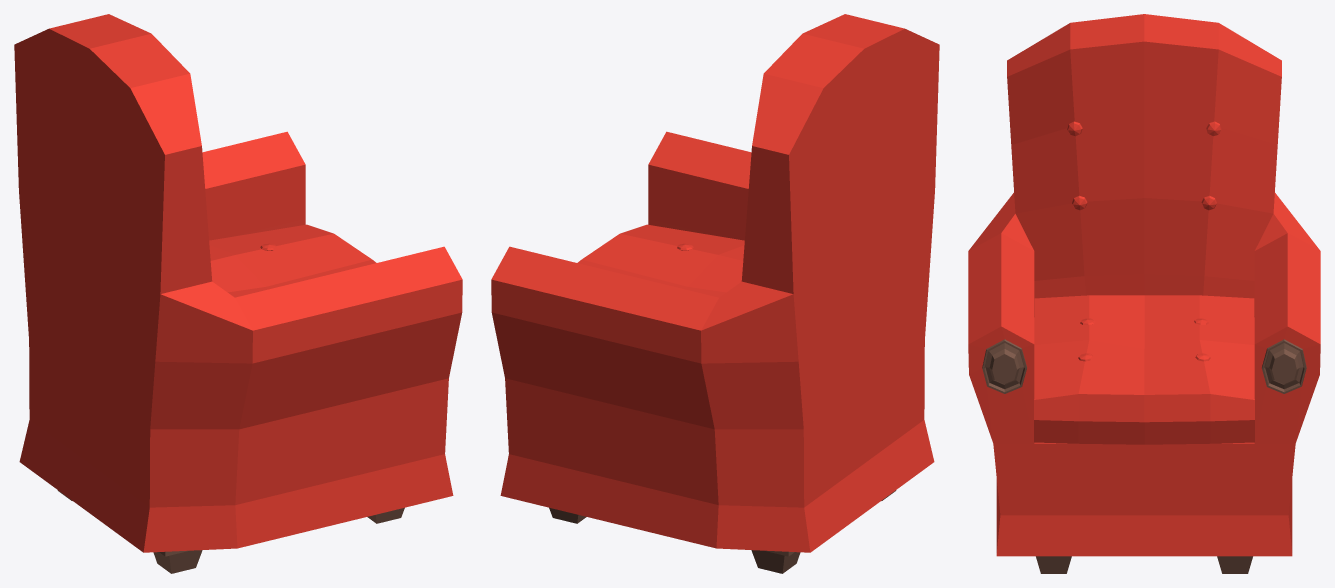
The model's file is armchair.glb.
3 views of the same model, side by side, from view 1: azimuth 30°, elevation 25°; view 2: azimuth 150°, elevation 25°; view 3: azimuth 270°, elevation 25° (orthographic). The views are drawn at different scales.
Visible parts, largest first — view 1: Armchair_Cube.025; view 2: Armchair_Cube.025; view 3: Armchair_Cube.025.
Part boxes in pixels (x1,y1,x2,y2): Armchair_Cube.025: (14,14,462,573); Armchair_Cube.025: (491,14,939,573); Armchair_Cube.025: (968,14,1320,573).
Size of the model in its own units: 6.32 by 9.99 by 7.14.
